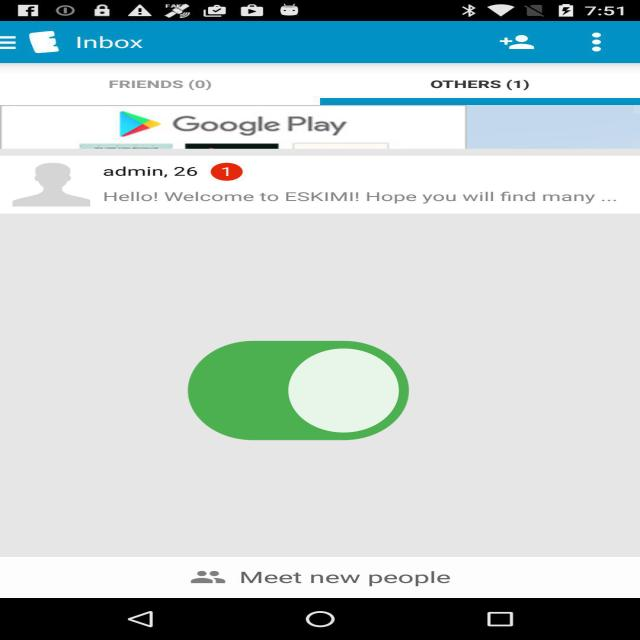social proof: (178, 303, 419, 486)
